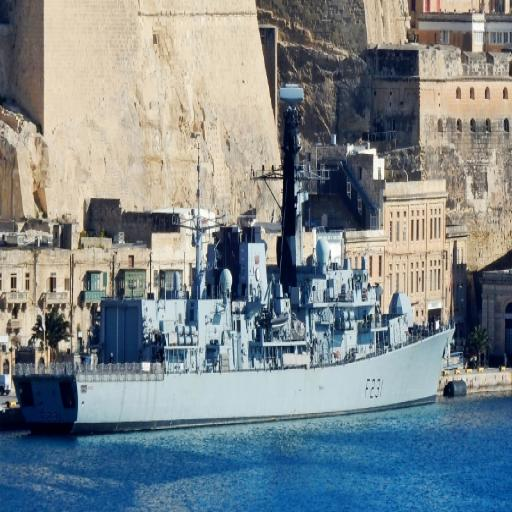Fragata: (8, 80, 458, 446)
